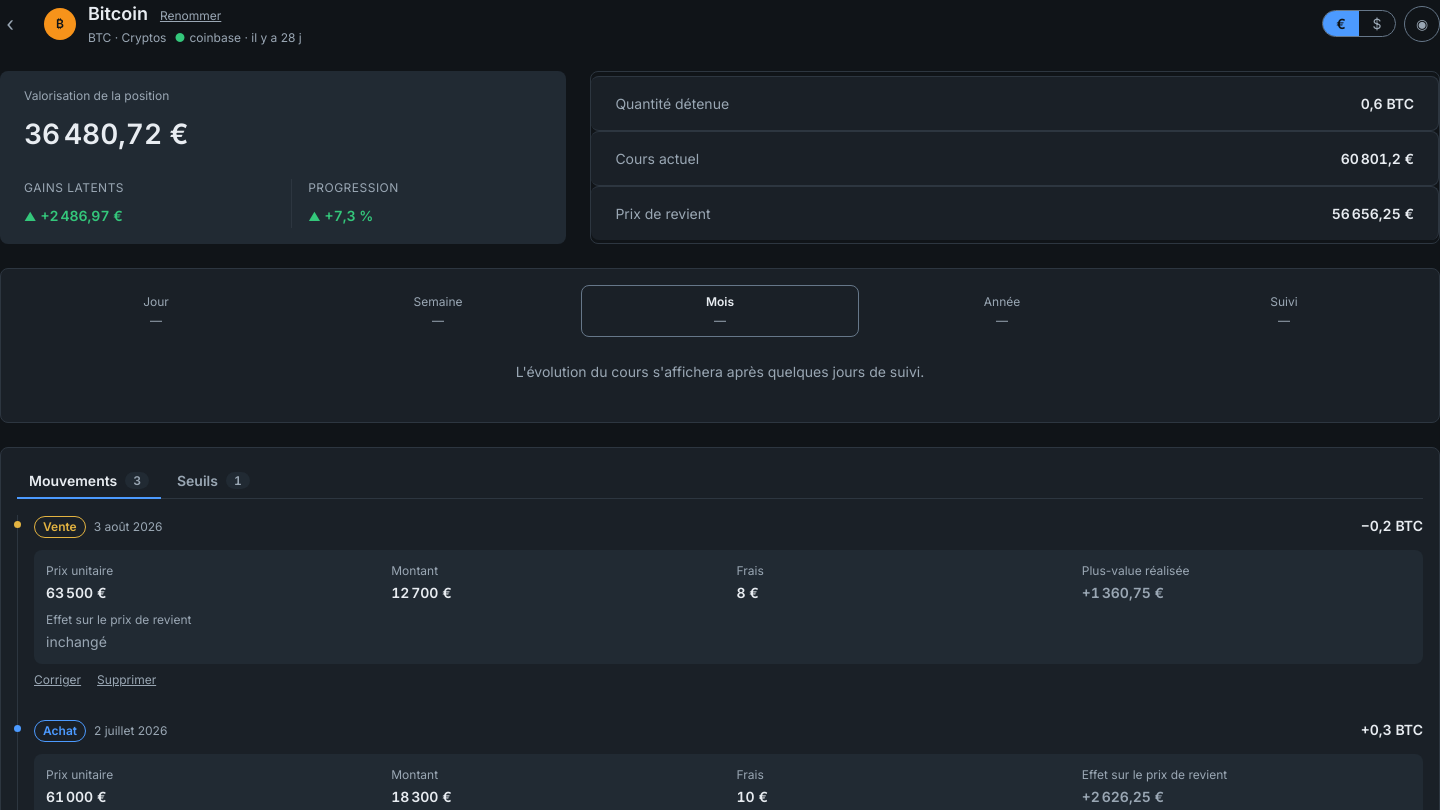
Test: onglets › n'affiche que les seuils posés sur cette position
Expected: the heading "Bitcoin" is shown, top-left (88, 0), bottom-right (148, 27)
What coordinates should you click on to do the following:
click the tab "Seuils 1"
I would click on:
 (213, 482)
Its box is top-left (165, 464), bottom-right (262, 499).
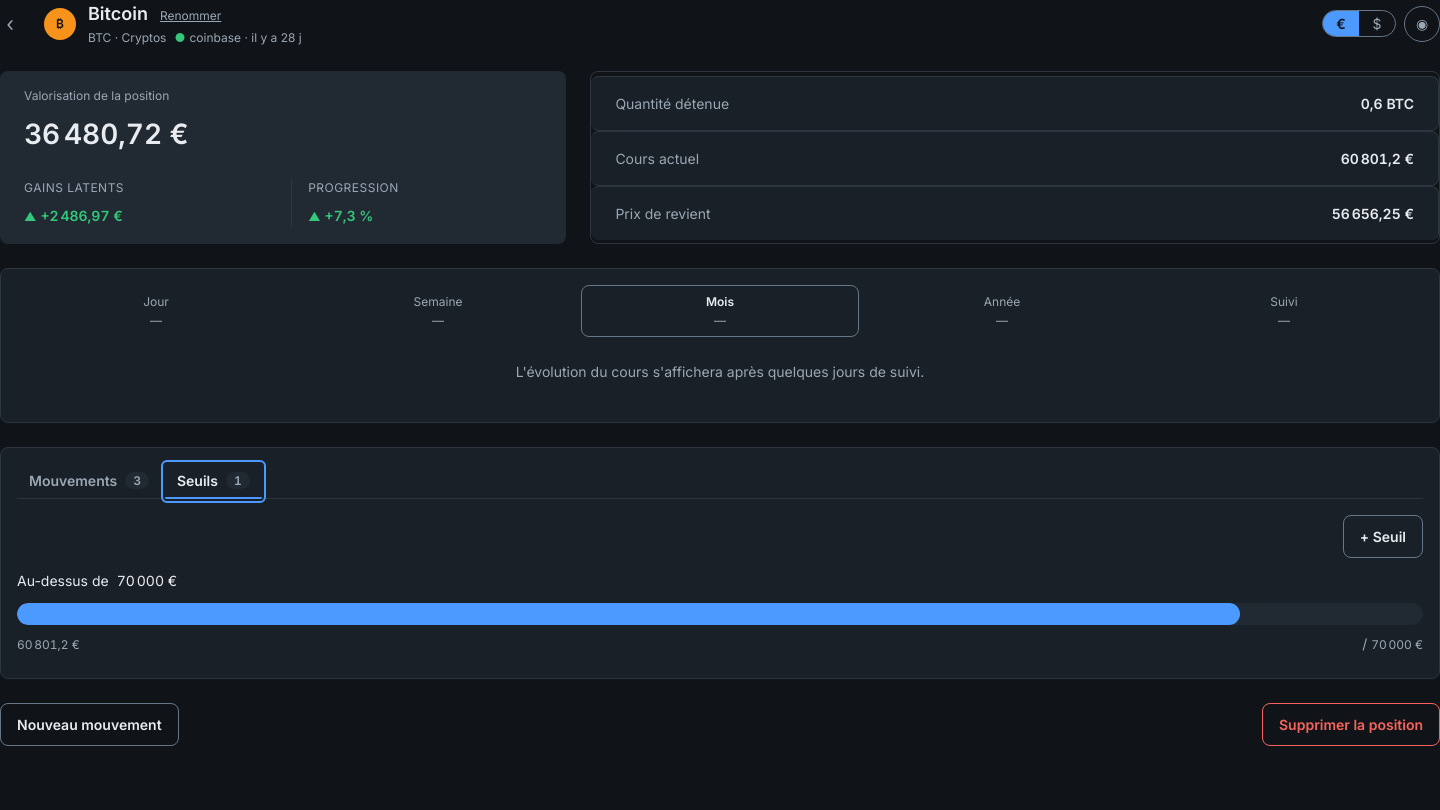
Now the text "Au-dessus de 70 000 €" is shown, box top-left (17, 572), bottom-right (177, 589)
Now the number of progress indicators is 1, box top-left (17, 603), bottom-right (1423, 625)
